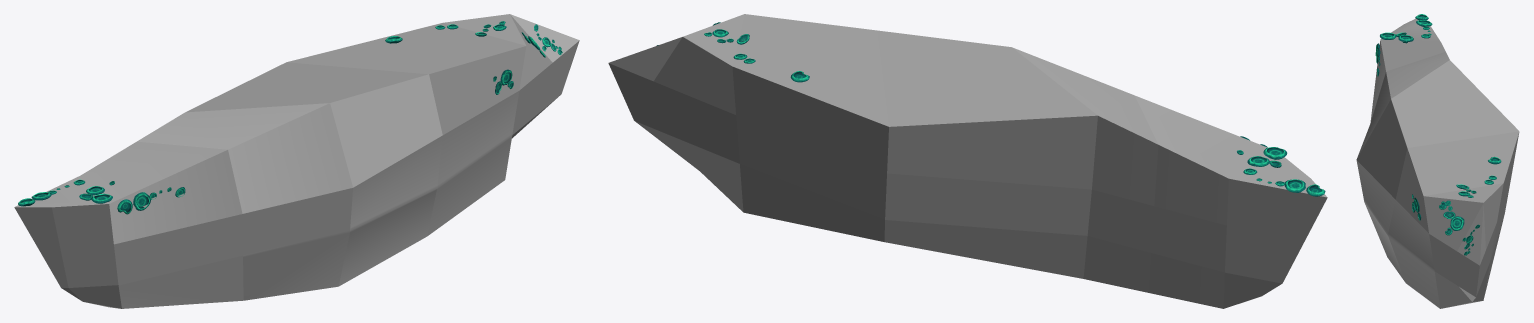
Rendered from stein1_rework.fbx.
The picture shows the model from 3 angles, left to right: view 1: azimuth 30°, elevation 25°; view 2: azimuth 150°, elevation 25°; view 3: azimuth 270°, elevation 25°; orthographic projection. The views are drawn at different scales.
Parts seen in each view (by area): view 1: polySurface90, polySurface106; view 2: polySurface90, polySurface106; view 3: polySurface90, polySurface106.
Part boxes in pixels (x1,y1,x2,y2): polySurface90: (14, 14, 579, 308); polySurface106: (18, 21, 562, 214); polySurface90: (608, 14, 1327, 308); polySurface106: (656, 22, 1325, 196); polySurface90: (1356, 18, 1519, 308); polySurface106: (1375, 14, 1501, 255).
Size of the model in its own units: 2067 by 606 by 575.
